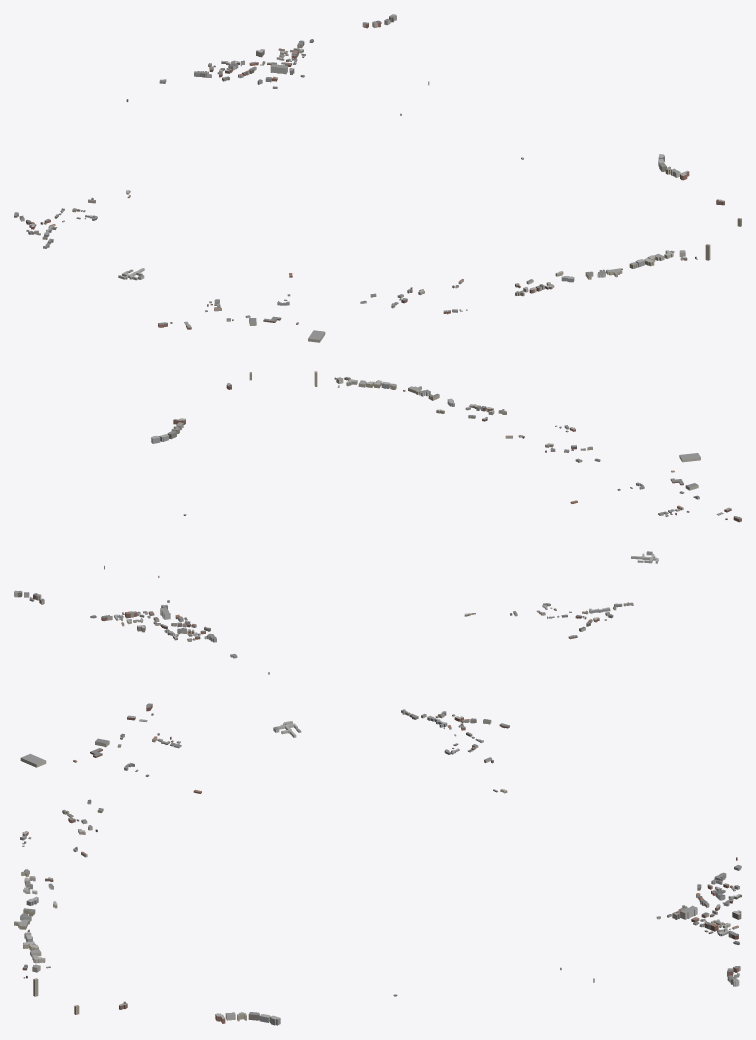
File: buildings_b0_0_2.glb
3 renders of one model, top to bottom at view 1: azimuth 30°, elevation 25°; view 2: azimuth 150°, elevation 25°; view 3: azimuth 270°, elevation 25°, orthographic. The views are drawn at different scales.
Visible parts, largest first — view 1: t02_11_buildings_b0, t02_08_buildings_b0, t00_08_buildings_b0, t00_10_buildings_b0, t03_08_buildings_b0; view 2: t02_11_buildings_b0, t00_08_buildings_b0, t00_10_buildings_b0, t02_08_buildings_b0, t03_08_buildings_b0; view 3: t02_11_buildings_b0, t00_10_buildings_b0, t00_08_buildings_b0, t02_08_buildings_b0, t03_08_buildings_b0, t03_09_buildings_b0.
Part boxes in pixels (x1,y1,x2,y2): t02_11_buildings_b0: [194, 39, 313, 88]; t02_08_buildings_b0: [515, 262, 637, 296]; t00_08_buildings_b0: [158, 294, 325, 342]; t00_10_buildings_b0: [14, 190, 130, 248]; t03_08_buildings_b0: [635, 199, 741, 267]; t02_11_buildings_b0: [90, 600, 216, 642]; t00_08_buildings_b0: [617, 453, 741, 522]; t00_10_buildings_b0: [464, 602, 633, 639]; t02_08_buildings_b0: [390, 383, 506, 421]; t03_08_buildings_b0: [226, 371, 390, 389]; t02_11_buildings_b0: [656, 872, 741, 944]; t00_10_buildings_b0: [401, 709, 509, 793]; t00_08_buildings_b0: [20, 703, 181, 776]; t02_08_buildings_b0: [14, 869, 57, 939]; t03_08_buildings_b0: [22, 935, 127, 1014]; t03_09_buildings_b0: [215, 1012, 280, 1025].
Bounding box in the file's own units: 2031 × 114 × 2038.
